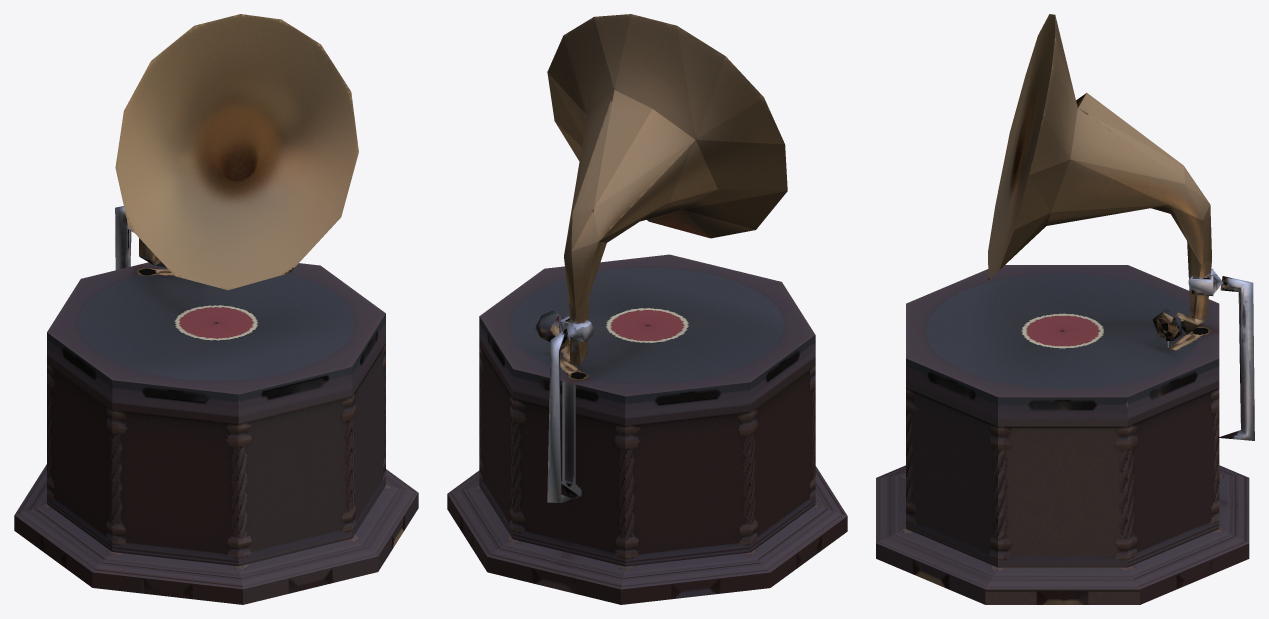
File: grammophone01.fbx
The picture shows the model from 3 angles, left to right: view 1: azimuth 30°, elevation 25°; view 2: azimuth 150°, elevation 25°; view 3: azimuth 270°, elevation 25°; orthographic projection.
Parts seen in each view (by area): view 1: body.002; view 2: body.002; view 3: body.002.
Part boxes in pixels (x1,y1,x2,y2): body.002: (14,14,418,604); body.002: (447,14,847,604); body.002: (876,14,1254,604).
Bounding box in the file's own units: 0.5518 × 0.5598 × 0.8138.
1 material, 1 textured.
